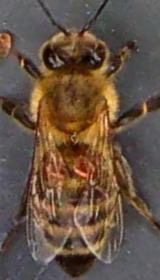varroa_mite: (70, 150, 102, 184)
